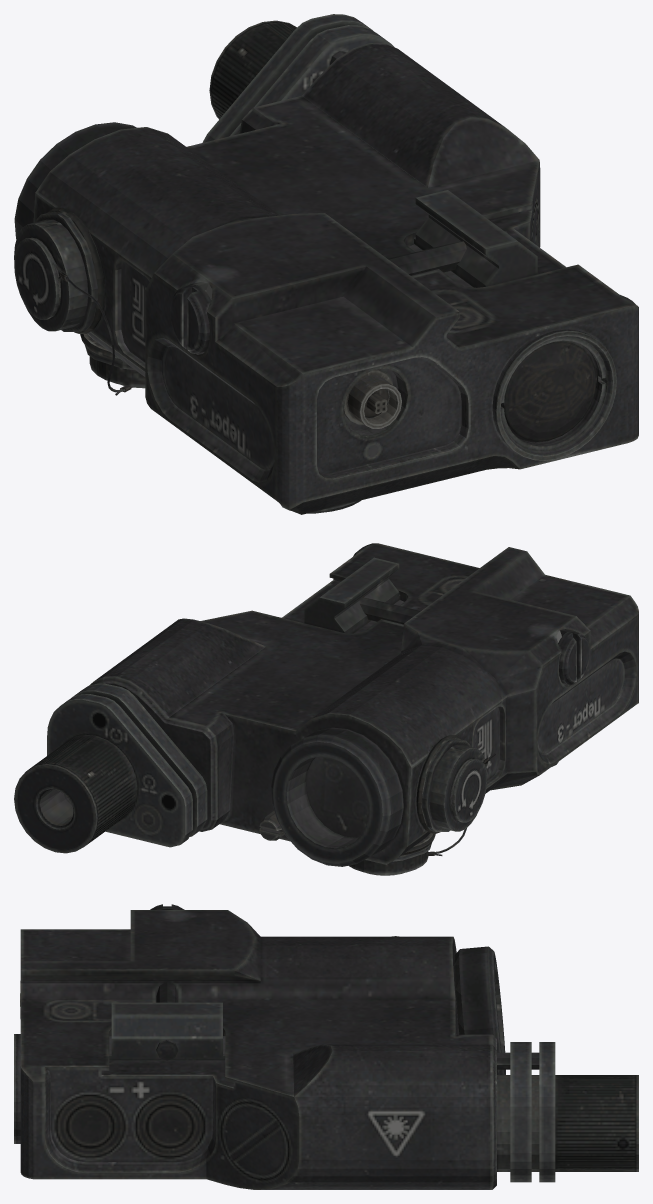
3 renders of one model, top to bottom at view 1: azimuth 30°, elevation 25°; view 2: azimuth 150°, elevation 25°; view 3: azimuth 270°, elevation 25°, orthographic. The views are drawn at different scales.
Visible parts, largest first — view 1: TW_5c5952732e2216398b5abda2_PZ_Import; view 2: TW_5c5952732e2216398b5abda2_PZ_Import; view 3: TW_5c5952732e2216398b5abda2_PZ_Import.
Boxes of the visible parts, left/top/right/bottom form: TW_5c5952732e2216398b5abda2_PZ_Import: left=14, top=14, right=638, bottom=514; TW_5c5952732e2216398b5abda2_PZ_Import: left=14, top=543, right=638, bottom=875; TW_5c5952732e2216398b5abda2_PZ_Import: left=14, top=904, right=638, bottom=1189.
Size of the model in its own units: 0.0495 by 0.0761 by 0.0227.
Materials: 1 (1 with a texture image).
